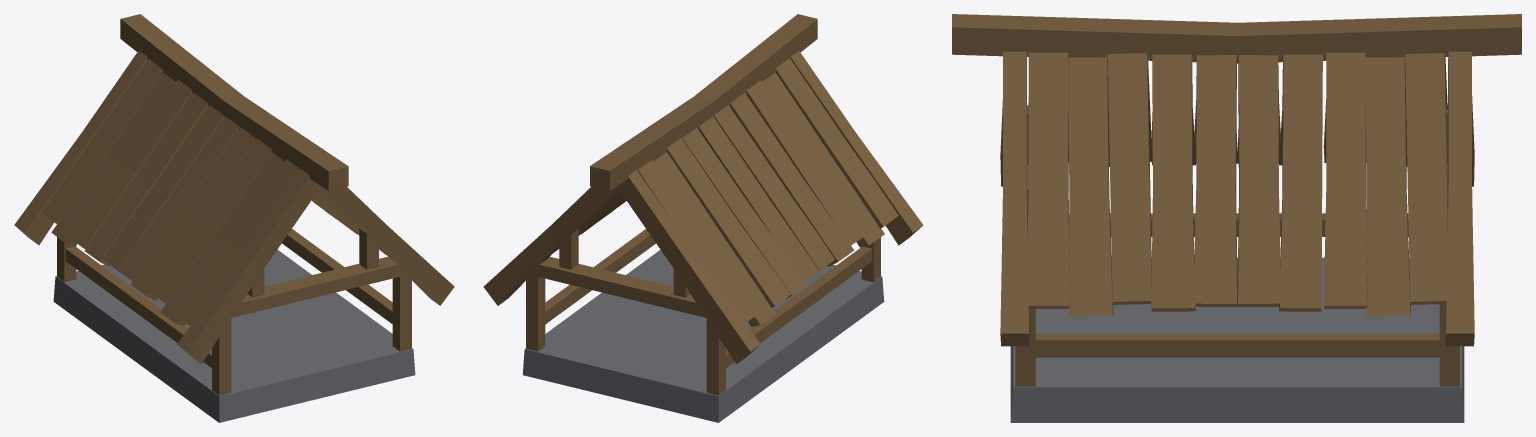
The model's file is cc0-hut.glb.
3 views of the same model, side by side, from view 1: azimuth 30°, elevation 25°; view 2: azimuth 150°, elevation 25°; view 3: azimuth 270°, elevation 25° (orthographic). The views are drawn at different scales.
Visible parts, largest first — view 1: cc0-hut; view 2: cc0-hut; view 3: cc0-hut.
Boxes of the visible parts, <box> form: cc0-hut: <box>14,14,454,422</box>; cc0-hut: <box>483,14,923,422</box>; cc0-hut: <box>952,14,1521,422</box>.
Bounding box in the file's own units: 5.12 × 4.5 × 6.9.
